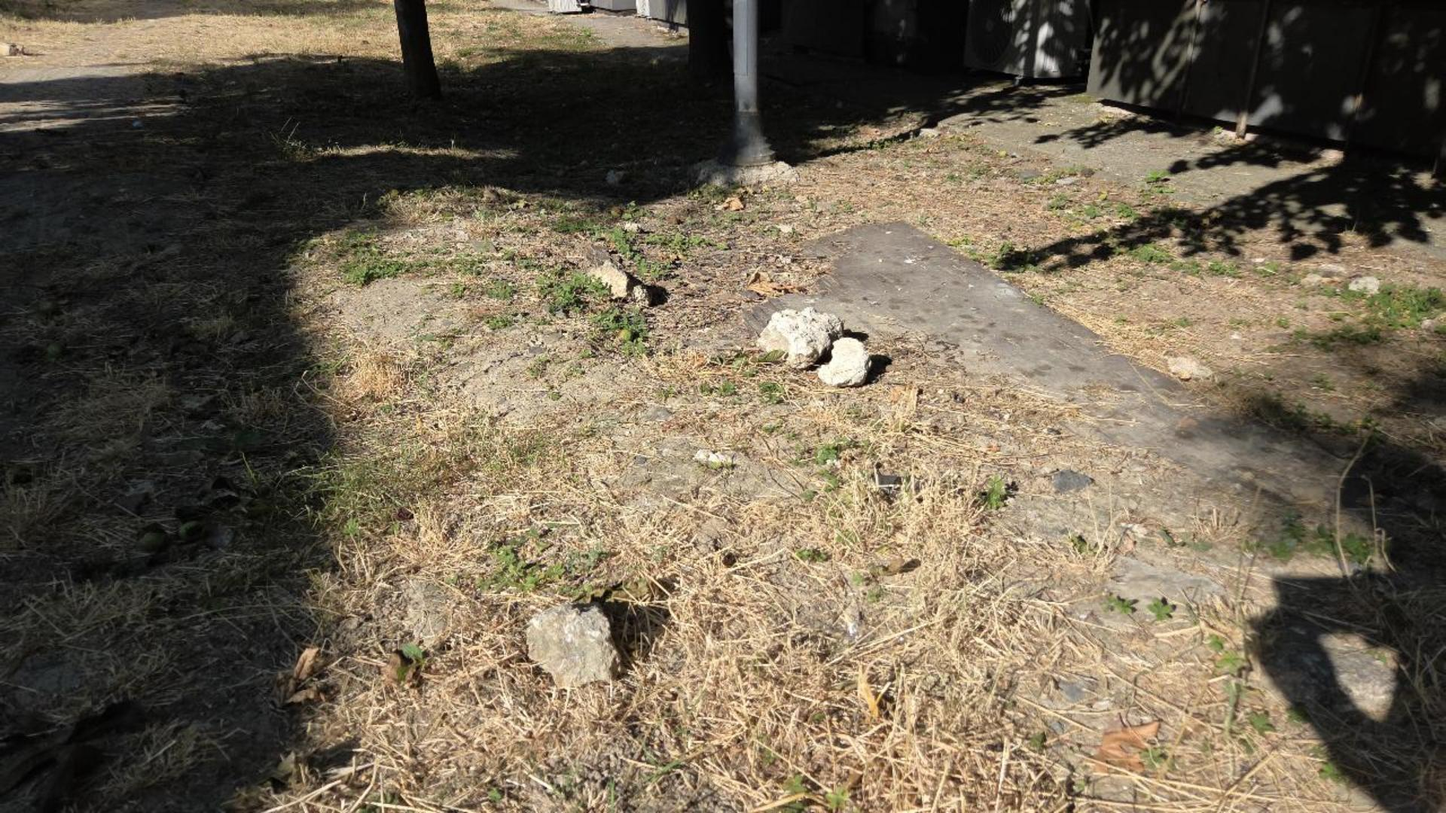rock: (528, 604, 617, 687), (757, 307, 842, 368), (589, 257, 650, 303), (819, 338, 869, 385), (1349, 276, 1380, 294), (1317, 263, 1348, 277), (1300, 273, 1323, 286)
